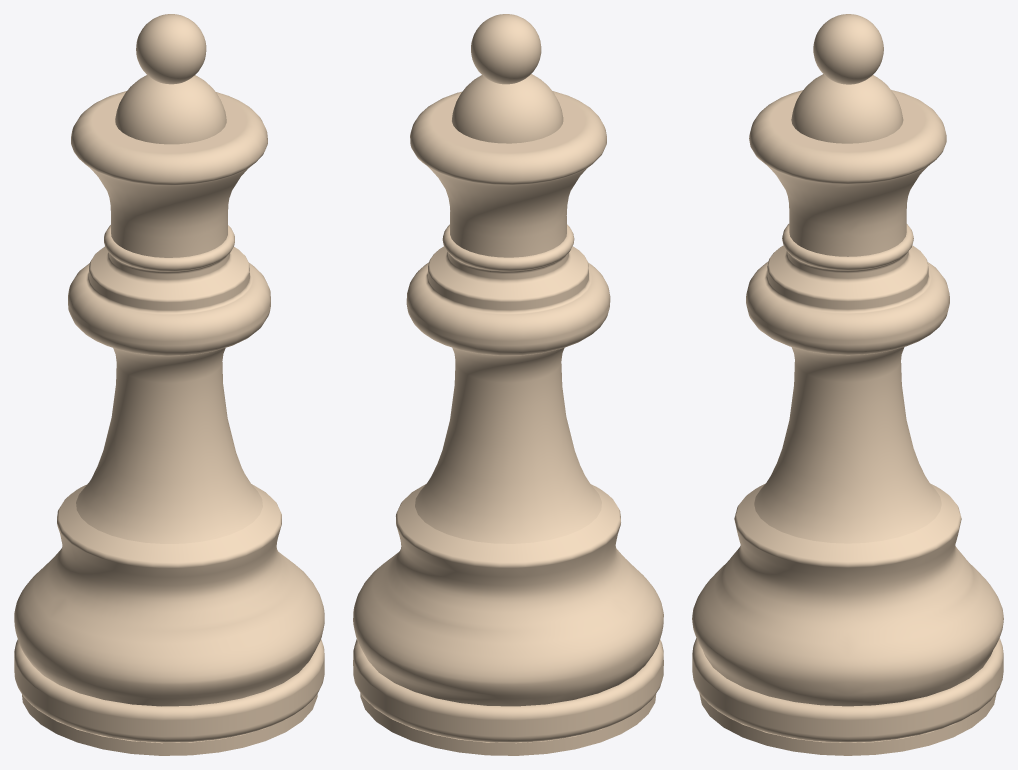
The model's file is QueenSilver.fbx.
3 renders of one model, left to right at view 1: azimuth 30°, elevation 25°; view 2: azimuth 150°, elevation 25°; view 3: azimuth 270°, elevation 25°, orthographic.
Visible parts, largest first — view 1: Ферзь; view 2: Ферзь; view 3: Ферзь.
Boxes of the visible parts, x1,y1,x2,y2 form: Ферзь: (14,14,324,755); Ферзь: (353,14,663,755); Ферзь: (692,14,1003,755).
Bounding box in the file's own units: 2.2 × 5.28 × 2.2.
